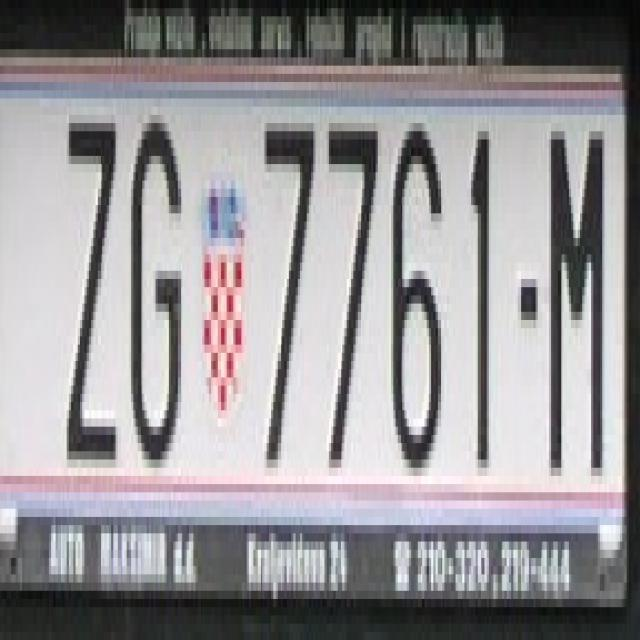1: (464, 123, 494, 476)
6: (389, 115, 447, 484)
7: (324, 106, 378, 468), (262, 98, 311, 476)
G: (124, 106, 180, 468)
M: (546, 123, 606, 476)
Z: (60, 99, 118, 468)
